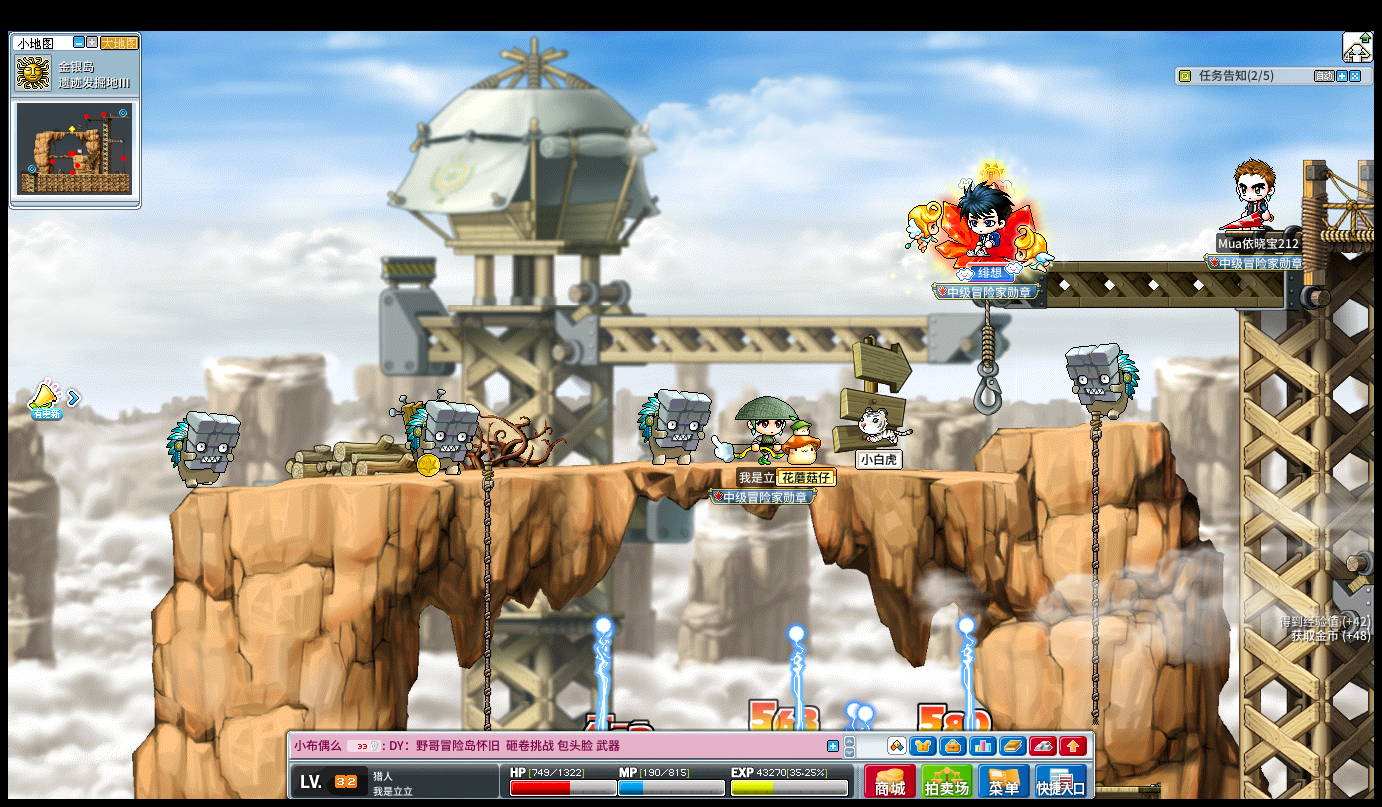floor: (197, 455, 1054, 484), (997, 419, 1169, 434)
monster: (1064, 340, 1140, 423), (165, 411, 240, 490), (635, 388, 711, 465), (405, 398, 479, 477)
rope: (1087, 410, 1102, 730), (480, 459, 493, 664)
